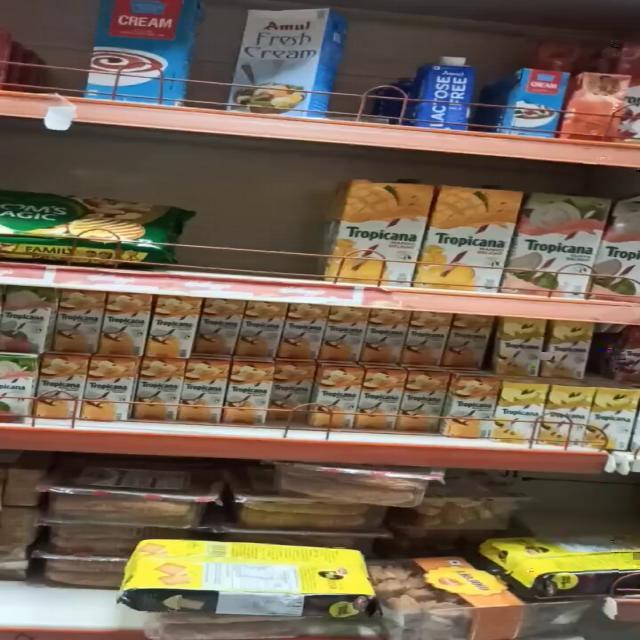Tropicana: (342, 182, 421, 288), (525, 191, 603, 298), (438, 182, 510, 290), (225, 362, 278, 430), (540, 380, 590, 448), (402, 368, 450, 438), (494, 378, 542, 444), (454, 375, 501, 442), (314, 361, 358, 432), (359, 366, 404, 435), (84, 357, 130, 421), (497, 318, 546, 378), (39, 353, 82, 421), (134, 360, 180, 422), (594, 388, 638, 452), (56, 289, 100, 352), (181, 360, 224, 424), (154, 296, 198, 356), (550, 316, 591, 379), (104, 292, 146, 353), (242, 298, 282, 359), (412, 312, 457, 366), (203, 298, 243, 357), (370, 308, 410, 363), (329, 306, 369, 359), (286, 304, 326, 356)
